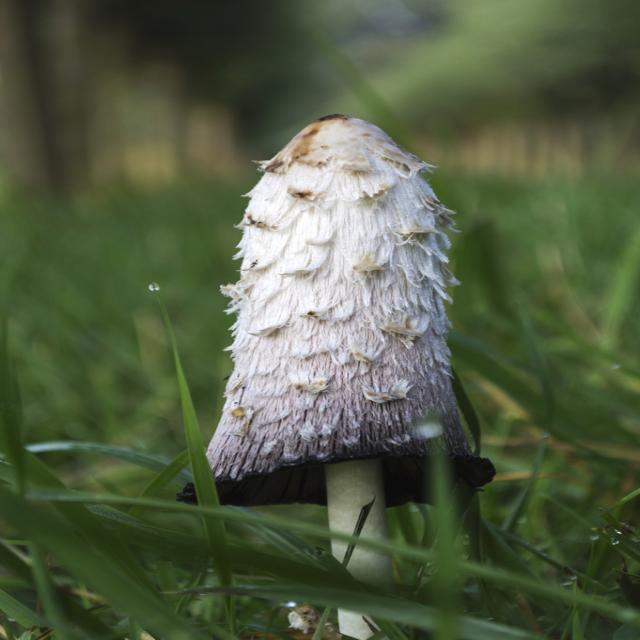Mushroom: (186, 118, 480, 640)
